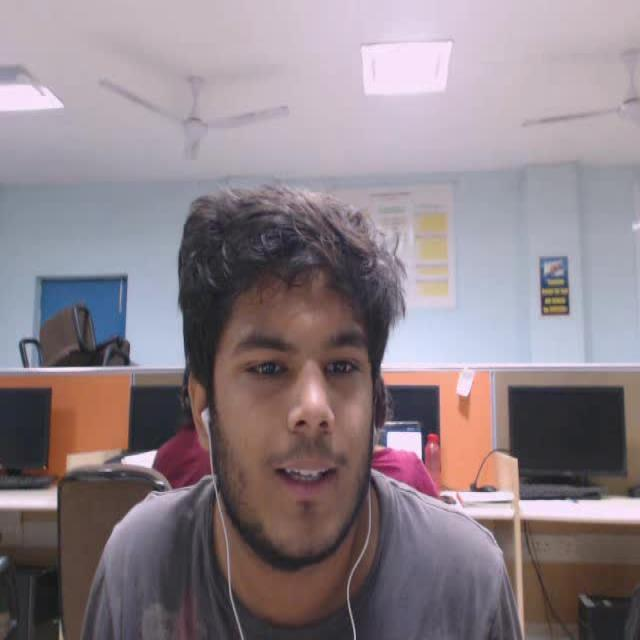Engaged: (153, 152, 432, 588)
